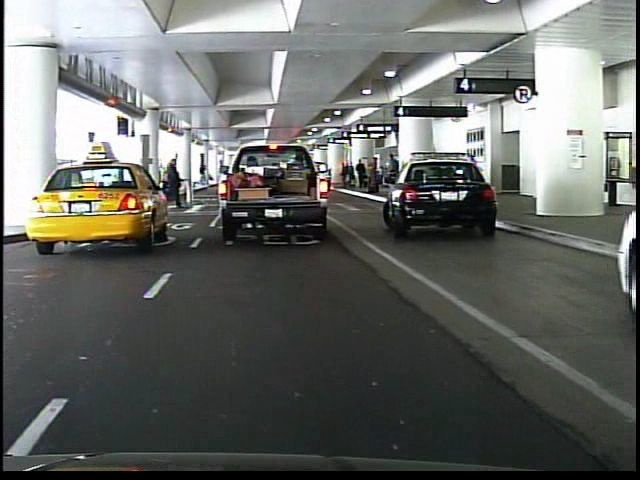person: (237, 147, 260, 202), (162, 154, 181, 206)
